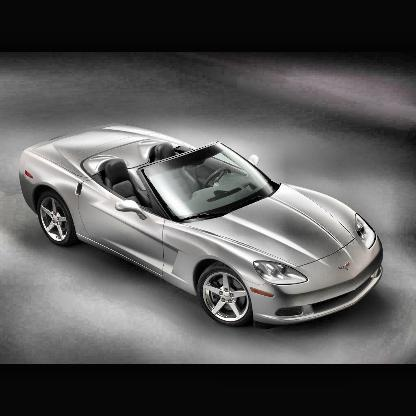Chevrolet Corvette Convertible 2012: (20, 126, 382, 329)
